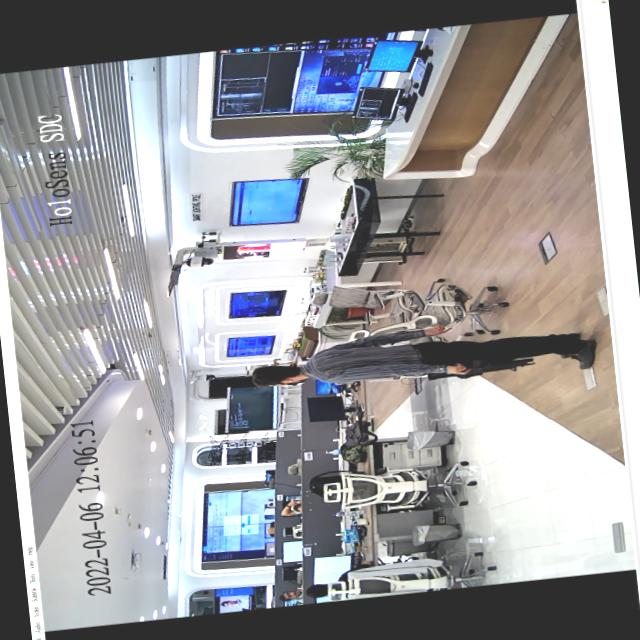long weapon: (416, 348, 538, 386)
